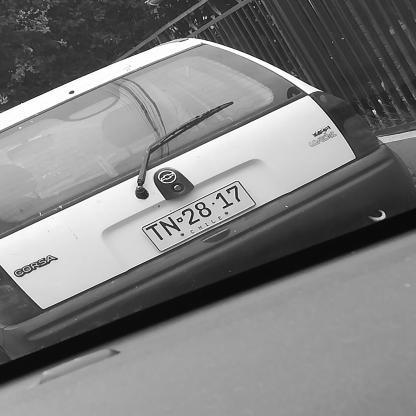Patente: (140, 180, 257, 252)
